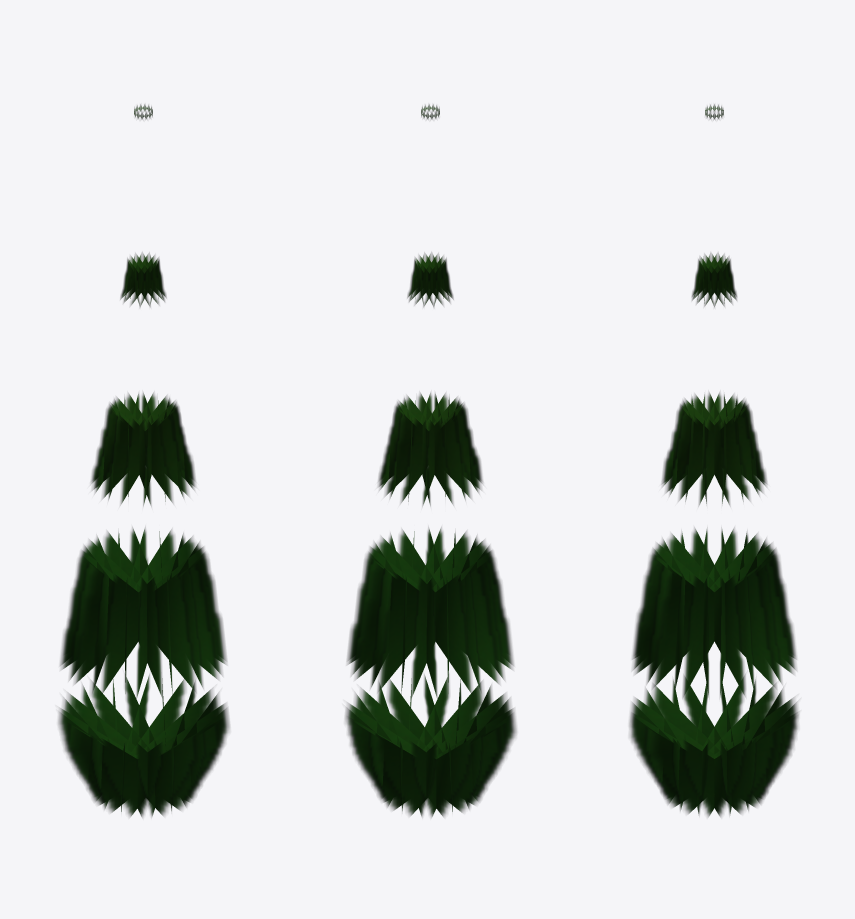
Rendered from Grass_TussockSedge.glb.
3 views of the same model, side by side, from view 1: azimuth 30°, elevation 25°; view 2: azimuth 150°, elevation 25°; view 3: azimuth 270°, elevation 25° (orthographic).
Parts seen in each view (by area): view 1: Grass_TussockSedge; view 2: Grass_TussockSedge; view 3: Grass_TussockSedge.
Part boxes in pixels (<box>): Grass_TussockSedge: <box>58,104,229,817</box>; Grass_TussockSedge: <box>345,104,516,817</box>; Grass_TussockSedge: <box>629,104,798,816</box>.
Size of the model in its own units: 0.2 by 0.7 by 0.195.
Materials: 1 (1 with a texture image).
